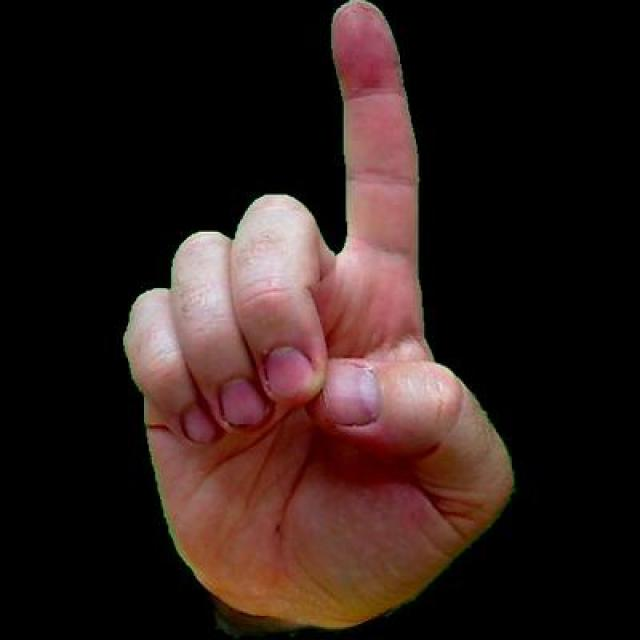d: (99, 0, 536, 637)
